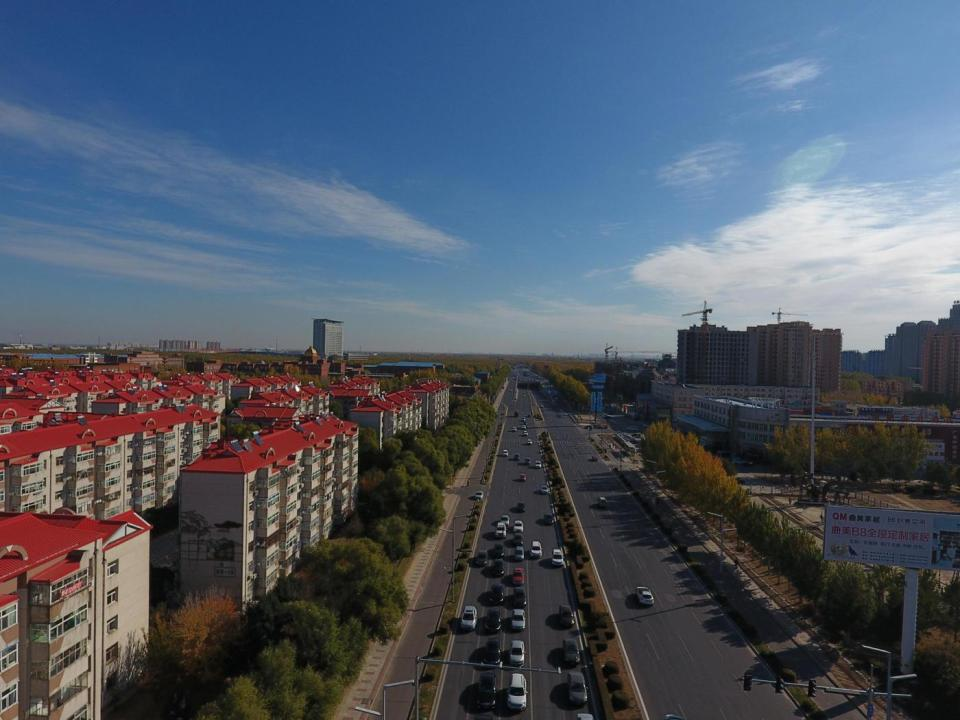car: (477, 672, 497, 709), (566, 671, 587, 706), (506, 674, 526, 710), (562, 638, 580, 665), (484, 637, 501, 665), (460, 605, 477, 631), (510, 641, 524, 667), (559, 604, 574, 627), (635, 586, 653, 605), (486, 608, 500, 632), (511, 609, 526, 631), (490, 583, 504, 605), (513, 586, 527, 608), (551, 549, 564, 567), (492, 559, 505, 577), (475, 550, 488, 566), (530, 541, 542, 558), (493, 543, 505, 558), (513, 568, 524, 584), (495, 523, 506, 538), (513, 546, 524, 561), (513, 520, 523, 533), (513, 534, 523, 546), (543, 513, 553, 524), (516, 502, 526, 512), (500, 515, 509, 526), (810, 466, 826, 472), (474, 490, 484, 499), (742, 460, 756, 466), (636, 447, 650, 453), (540, 485, 548, 494), (623, 435, 634, 441), (902, 469, 914, 474), (734, 478, 746, 483), (626, 426, 638, 431), (513, 453, 520, 461), (632, 443, 646, 447), (630, 433, 641, 438), (615, 430, 624, 436), (618, 432, 628, 437), (535, 460, 541, 468), (524, 458, 530, 466), (666, 426, 674, 432), (725, 456, 736, 460), (629, 440, 640, 444), (884, 470, 894, 474), (626, 437, 636, 441), (584, 425, 593, 429), (621, 434, 630, 438), (598, 413, 607, 417), (597, 412, 606, 416), (503, 450, 508, 457), (520, 474, 525, 481), (591, 456, 598, 461), (642, 423, 650, 427), (602, 413, 610, 417), (523, 430, 528, 436), (624, 413, 631, 417), (527, 439, 532, 444), (512, 426, 516, 432), (527, 413, 531, 417), (524, 421, 528, 425), (521, 425, 525, 429), (604, 416, 612, 418), (596, 412, 604, 414), (521, 418, 525, 421), (559, 409, 562, 412), (507, 388, 510, 390), (540, 405, 543, 407), (555, 398, 558, 400), (522, 395, 524, 397), (510, 390, 512, 391)
truck: (590, 421, 606, 427), (596, 423, 607, 429), (514, 410, 518, 417)
van: (597, 497, 608, 508), (731, 458, 746, 465)
